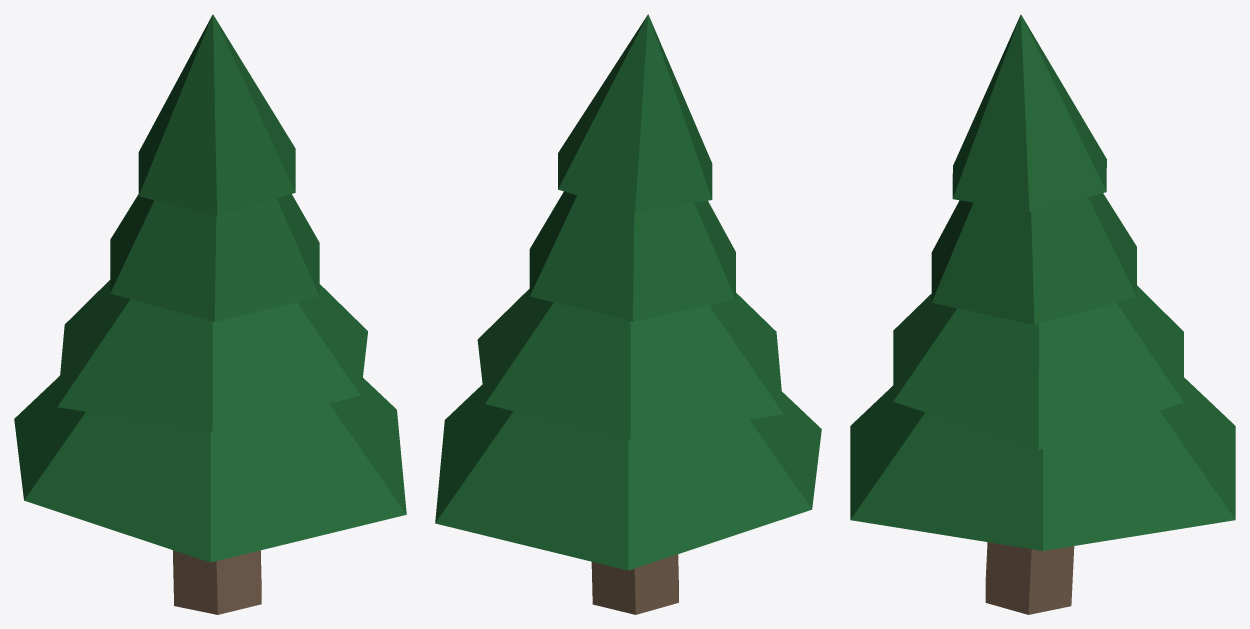
The model's file is Pine1.fbx.
3 views of the same model, side by side, from view 1: azimuth 30°, elevation 25°; view 2: azimuth 150°, elevation 25°; view 3: azimuth 270°, elevation 25° (orthographic).
Visible parts, largest first — view 1: mergedBlocks; view 2: mergedBlocks; view 3: mergedBlocks.
Boxes of the visible parts, x1,y1,x2,y2 form: mergedBlocks: [14, 14, 406, 614]; mergedBlocks: [435, 14, 821, 614]; mergedBlocks: [850, 14, 1235, 614].
Bounding box in the file's own units: 23.75 × 35.79 × 21.65.
